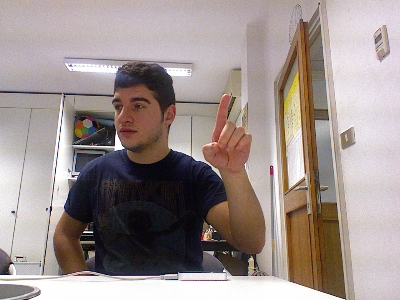食指: (201, 93, 253, 170)
